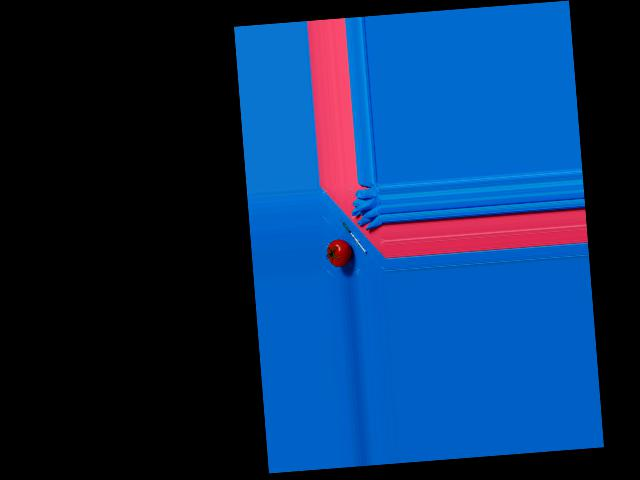tomato: (326, 238, 353, 266)
